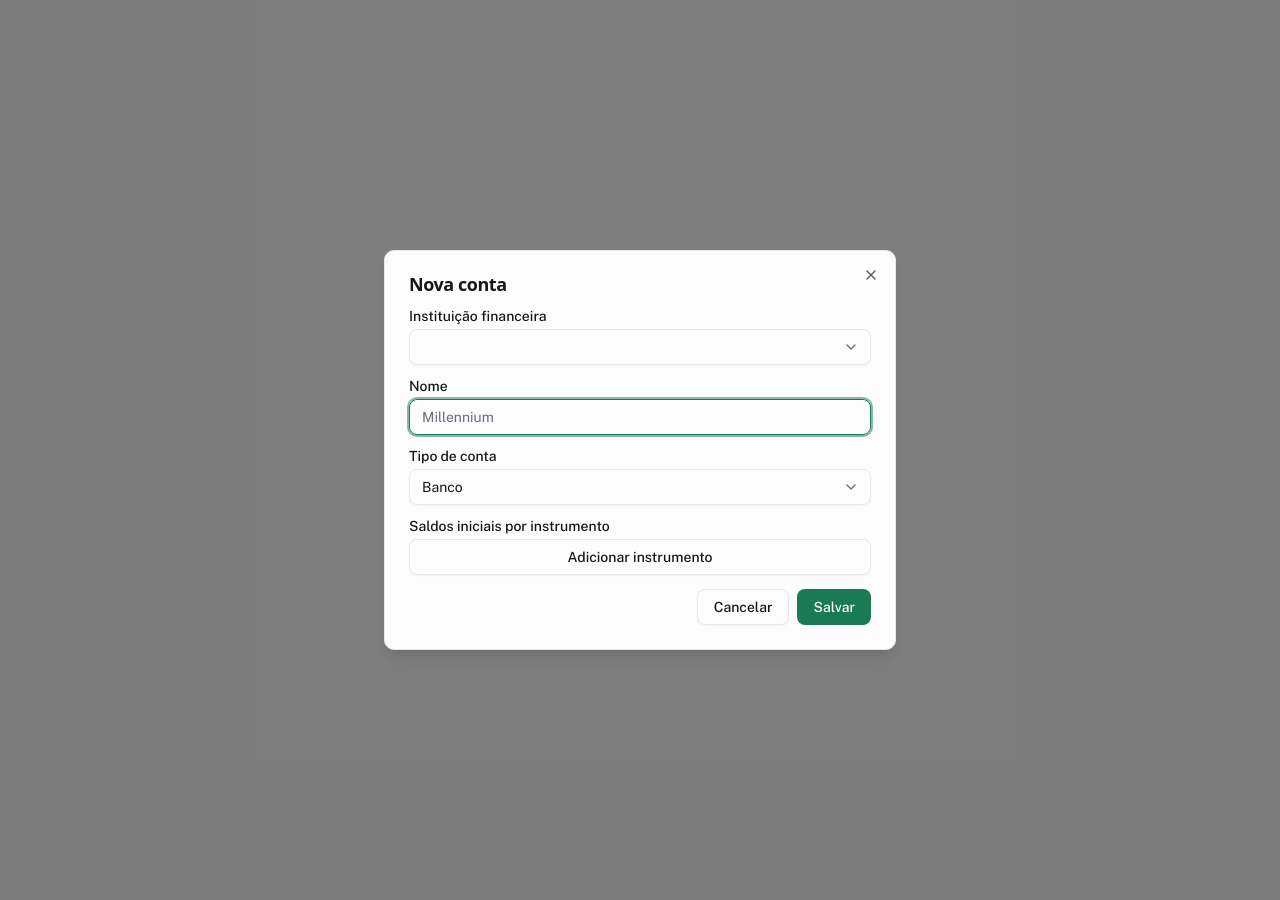
AccountDialog › offers only compatible instruments for the selected account kind
This screenshot has width=1280, height=900.
What coordinates should you click on to do the following:
click the button "Adicionar instrumento"
I would click on:
 (640, 557)
Its box is top-left (409, 539), bottom-right (871, 575).
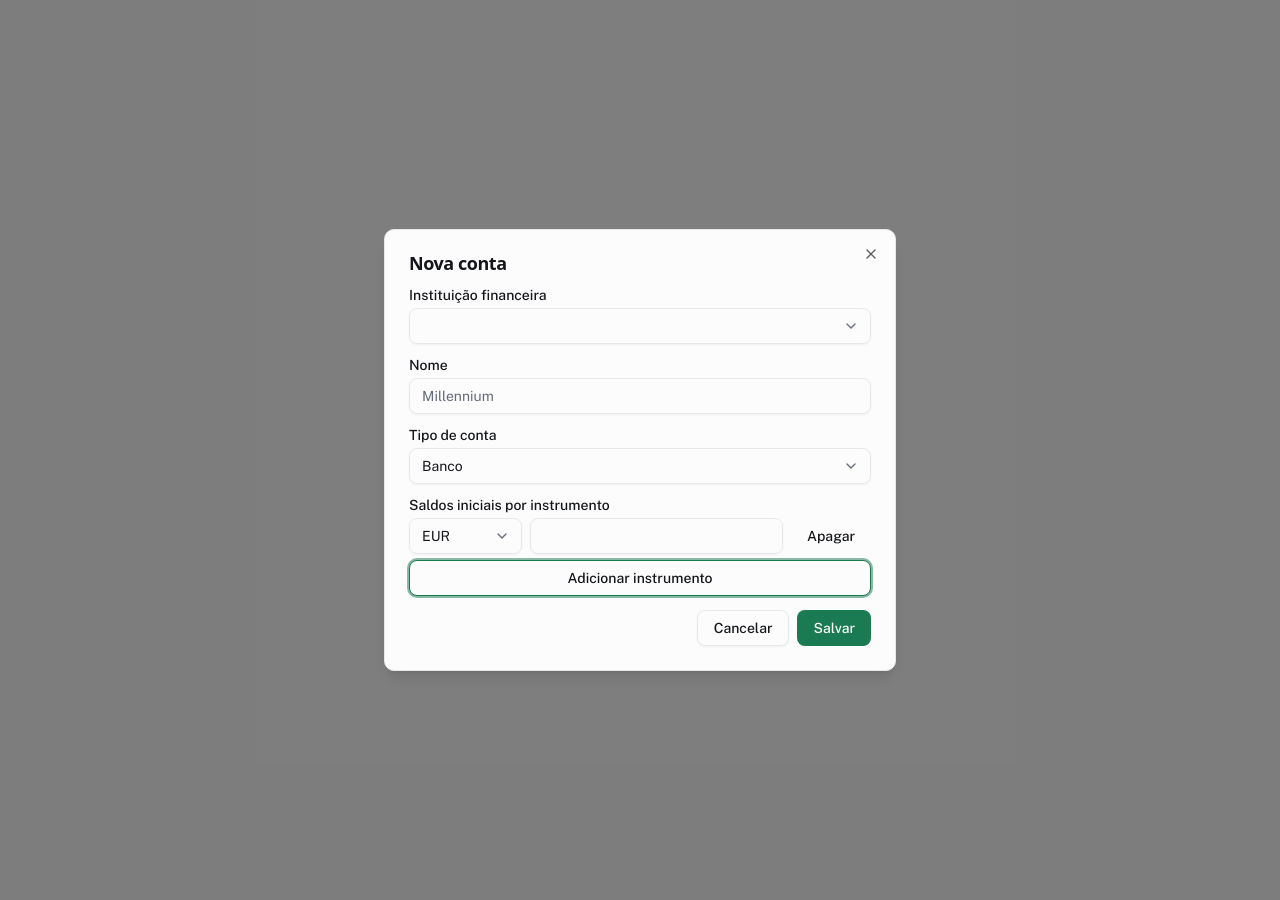
What coordinates should you click on to do the following:
click the dropdown named "Instrumento"
I would click on:
 (466, 536)
Its box is top-left (409, 518), bottom-right (522, 554).
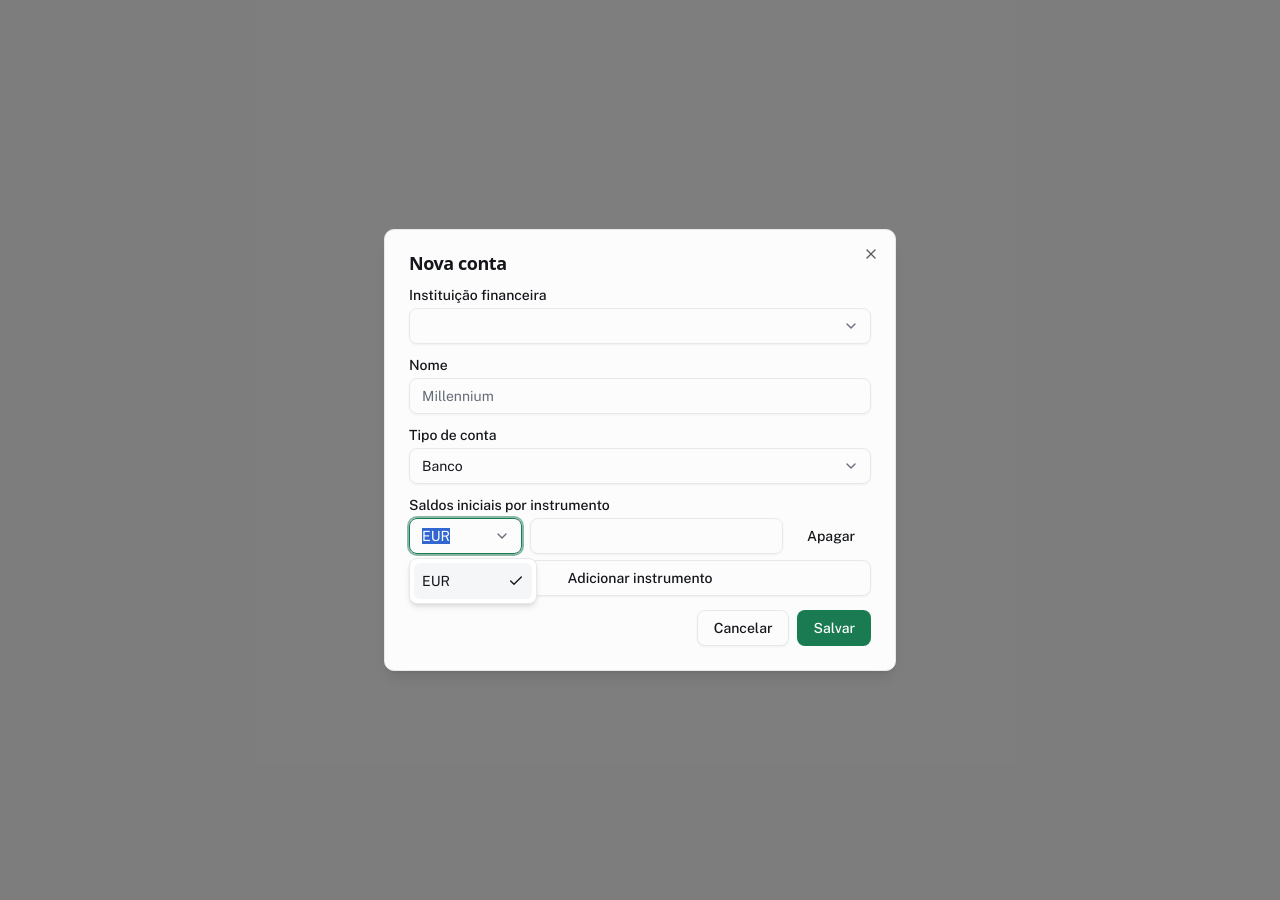
Result: the option "EUR" is shown at top-left (414, 563), bottom-right (532, 599)
